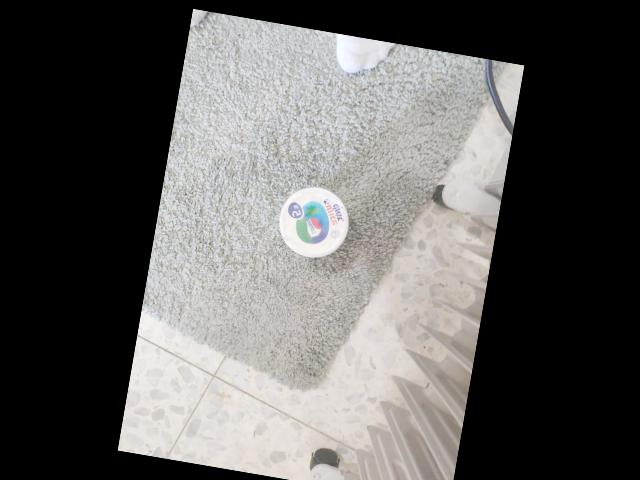cotage: (272, 184, 355, 265)
